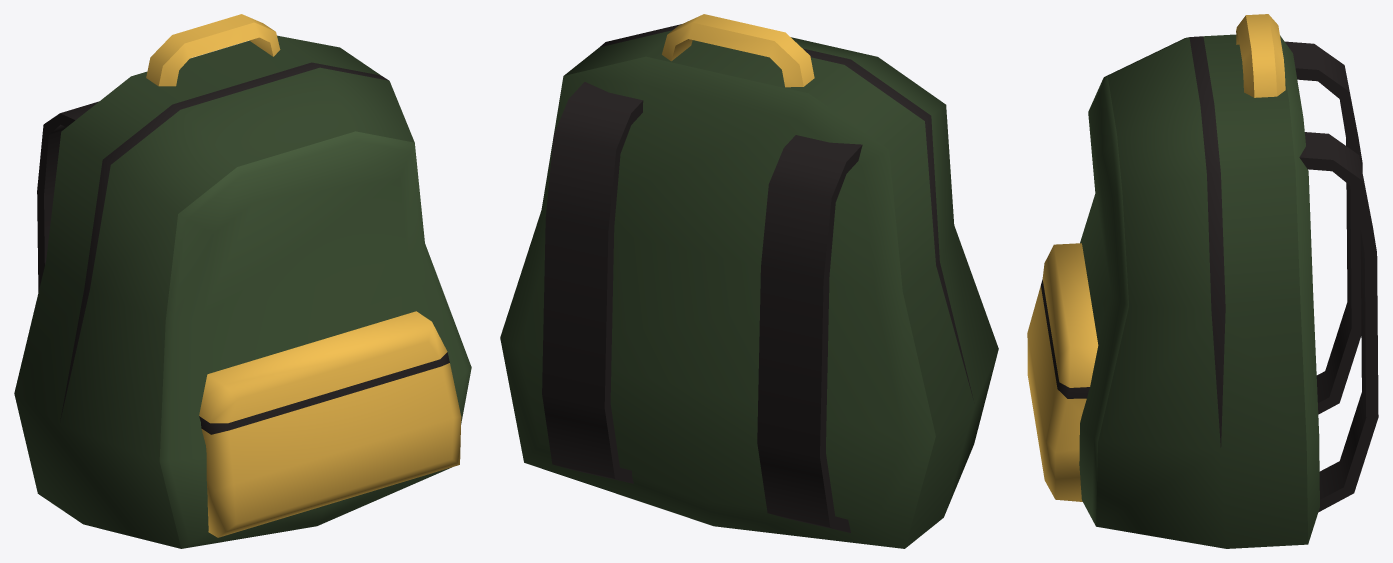
The model's file is 16_prop_bag.FBX.
3 renders of one model, left to right at view 1: azimuth 30°, elevation 25°; view 2: azimuth 150°, elevation 25°; view 3: azimuth 270°, elevation 25°, orthographic. The views are drawn at different scales.
Parts seen in each view (by area): view 1: prop_bag; view 2: prop_bag; view 3: prop_bag.
Part boxes in pixels (bbox=[...]): prop_bag: bbox=[14, 14, 471, 548]; prop_bag: bbox=[500, 14, 998, 548]; prop_bag: bbox=[1027, 14, 1378, 548].
Bounding box in the file's own units: 35.23 × 38.73 × 27.23.
